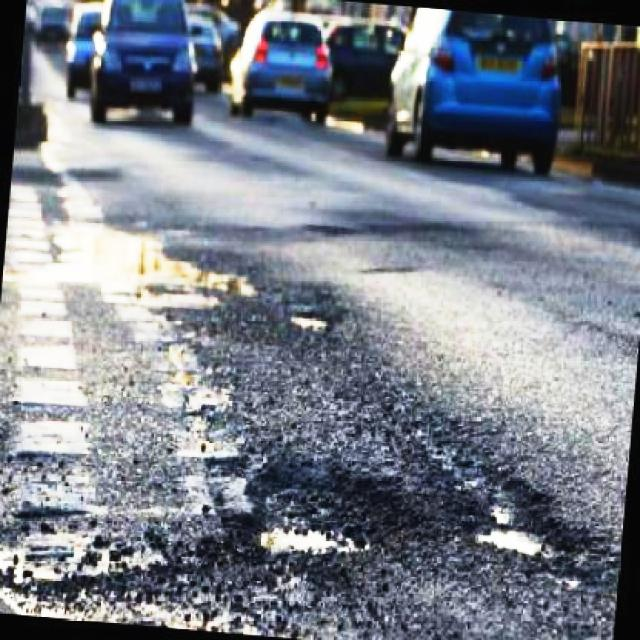pothole: (410, 409, 604, 583), (223, 455, 419, 571), (248, 280, 346, 349)
